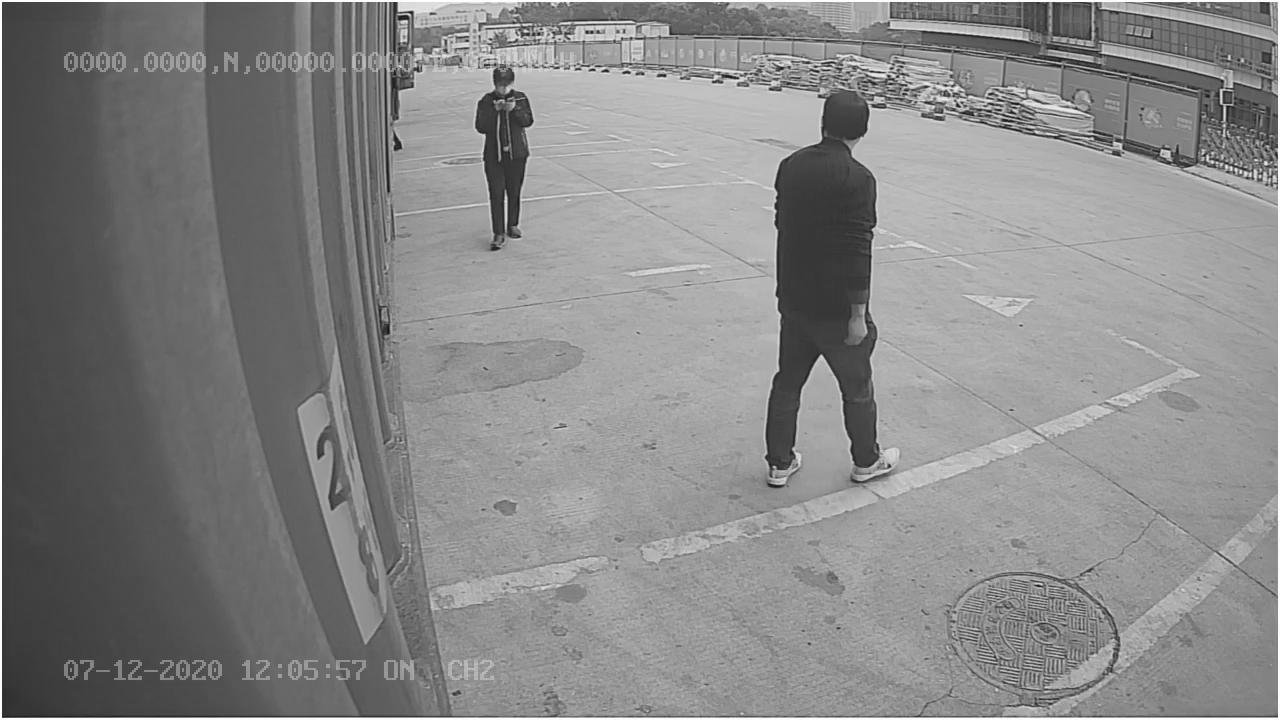person: (758, 86, 904, 485)
